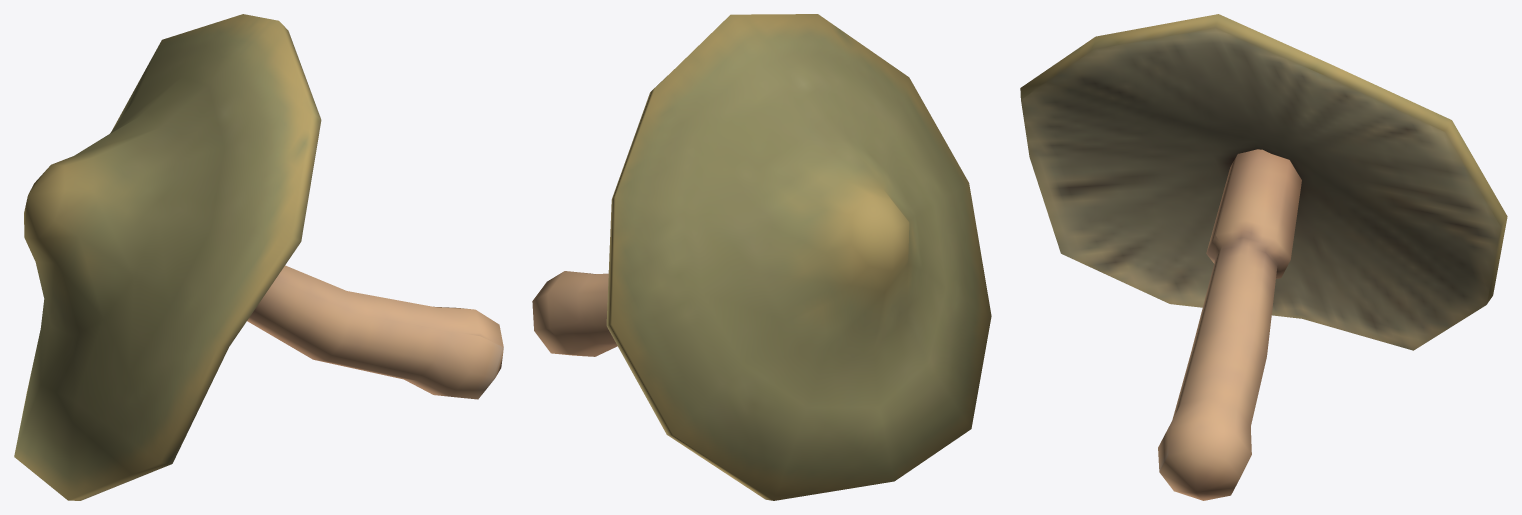
3 views of the same model, side by side, from view 1: azimuth 30°, elevation 25°; view 2: azimuth 150°, elevation 25°; view 3: azimuth 270°, elevation 25° (orthographic). The views are drawn at different scales.
Parts seen in each view (by area): view 1: submesh_0; view 2: submesh_0; view 3: submesh_0.
Part boxes in pixels (<box>): submesh_0: <box>14,14,503,500</box>; submesh_0: <box>532,14,991,500</box>; submesh_0: <box>1020,14,1507,500</box>.
Bounding box in the file's own units: 0.1784 × 0.159 × 0.1738.
1 material, 1 textured.
